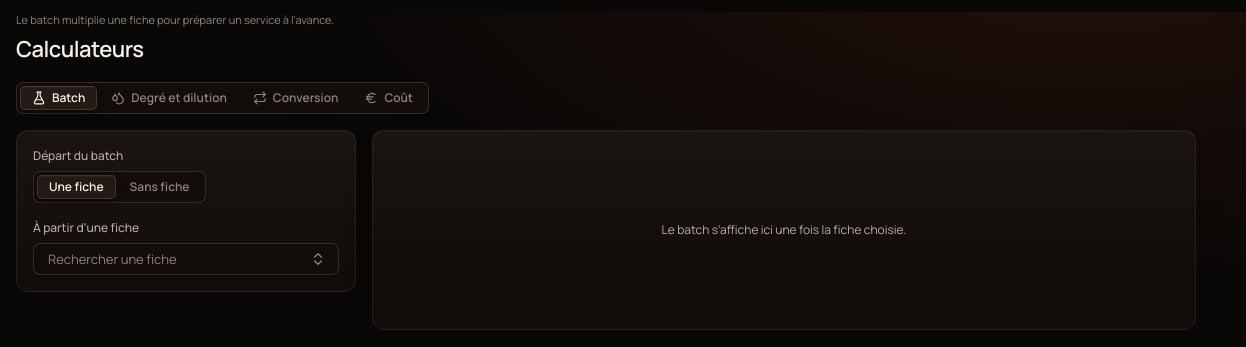
Scenario: CalculatorsPage › describes the calculator shown above the title, the tabs under it
Expected: the heading "Calculateurs" is shown, x1=16 y1=34 x2=144 y2=64
Expected: the text "Le batch multiplie une fiche pour préparer un service à l’avance." is shown, x1=16 y1=12 x2=334 y2=28
Click the radio button labelled "Coût" at (389, 98), box x1=352 y1=86 x2=425 y2=110
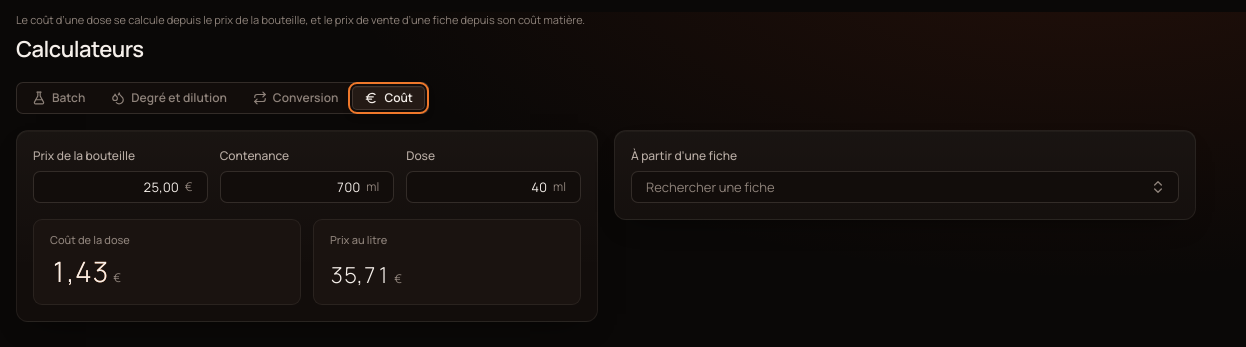
Now the text "Le coût d’une dose se calcule depuis le prix de la bouteille, et le prix de vente d’une fiche depuis son coût matière." is shown, box x1=16 y1=12 x2=585 y2=27
Now the text "Le batch multiplie une fiche pour préparer un service à l’avance." is gone
